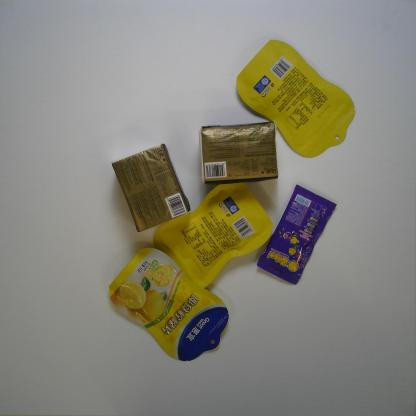Candy: (254, 184, 340, 286)
Dried Fruit: (234, 38, 357, 159), (107, 247, 230, 363), (152, 180, 274, 292)
Tissue: (110, 142, 192, 235), (198, 120, 280, 188)
